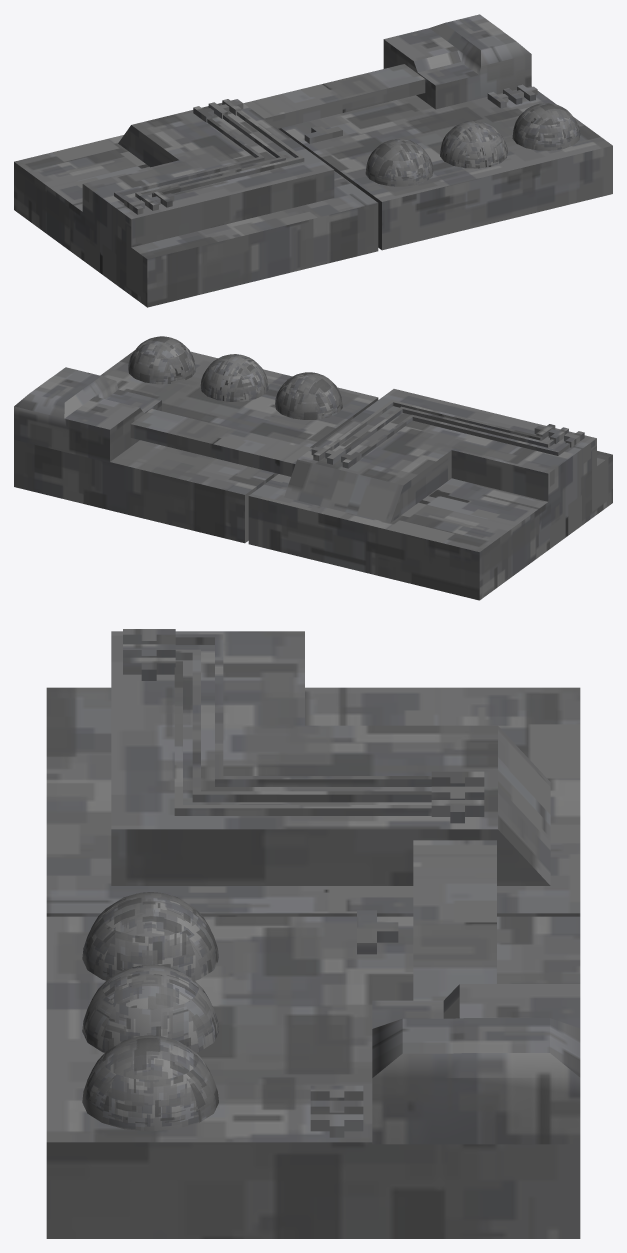
File: block 2blocks conneccted.fbx
3 renders of one model, top to bottom at view 1: azimuth 30°, elevation 25°; view 2: azimuth 150°, elevation 25°; view 3: azimuth 270°, elevation 25°, orthographic. The views are drawn at different scales.
Parts seen in each view (by area): view 1: pCube19; view 2: pCube19; view 3: pCube19.
Boxes of the visible parts, x1,y1,x2,y2 form: pCube19: (14, 14, 612, 307); pCube19: (14, 336, 612, 600); pCube19: (46, 629, 580, 1238).
Bounding box in the file's own units: 10.08 × 1.85 × 5.
Materials: 1 (1 with a texture image).
